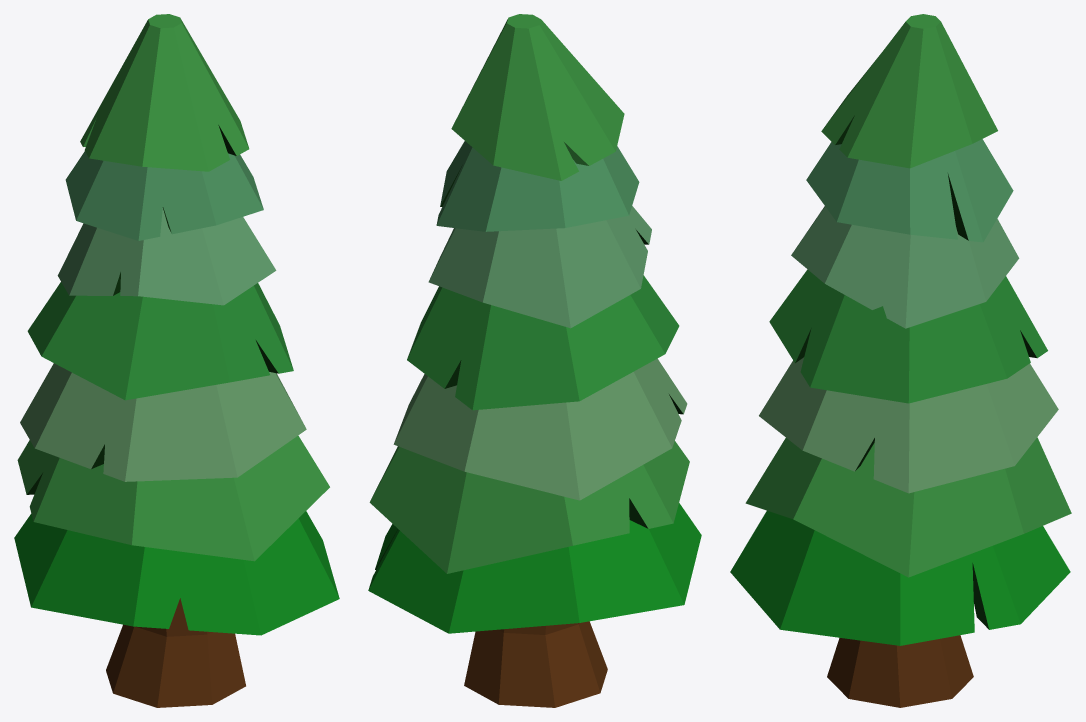
Rendered from Spruce.fbx.
3 renders of one model, left to right at view 1: azimuth 30°, elevation 25°; view 2: azimuth 150°, elevation 25°; view 3: azimuth 270°, elevation 25°, orthographic. The views are drawn at different scales.
Visible parts, largest first — view 1: Choinka tree; view 2: Choinka tree; view 3: Choinka tree.
Boxes of the visible parts, x1,y1,x2,y2 form: Choinka tree: (14,14,339,707); Choinka tree: (368,14,701,707); Choinka tree: (730,14,1071,707).
Size of the model in its own units: 355 by 755 by 356.
